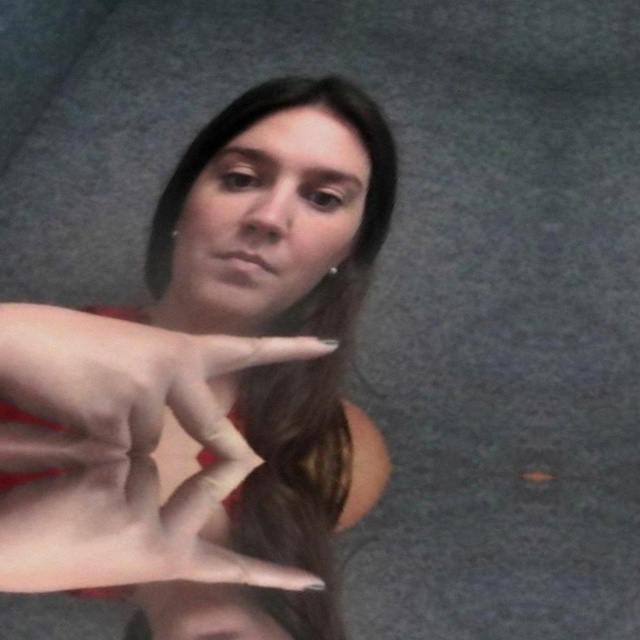Scissors: (0, 441, 386, 640)
